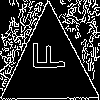F: (24, 41, 65, 72)
